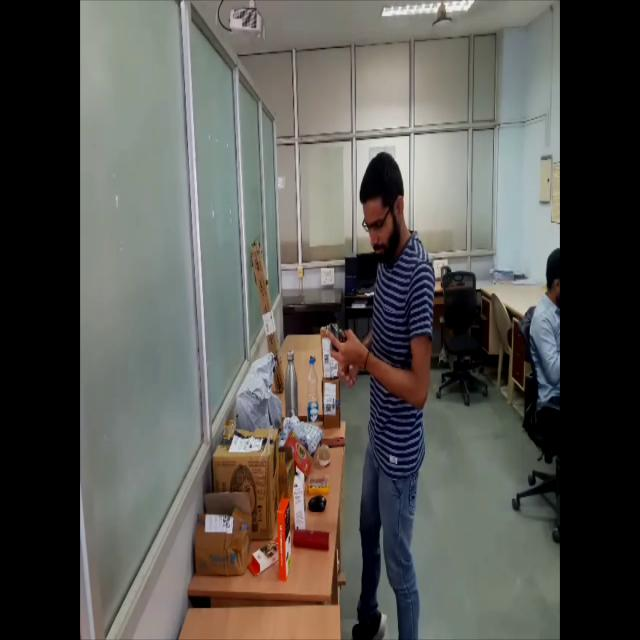normal: (320, 148, 438, 640)
